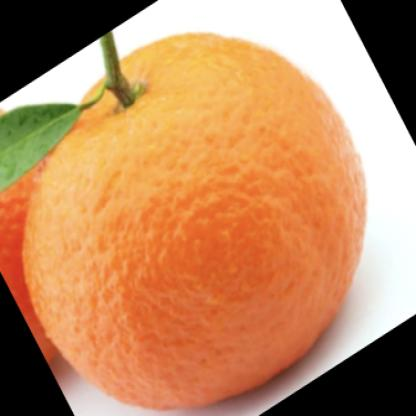fresh: (22, 34, 369, 409)
